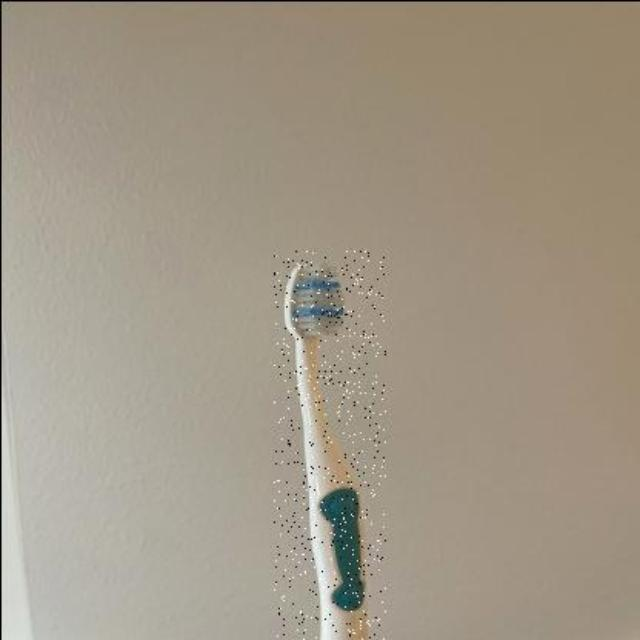toothbrush: (272, 250, 384, 640)
